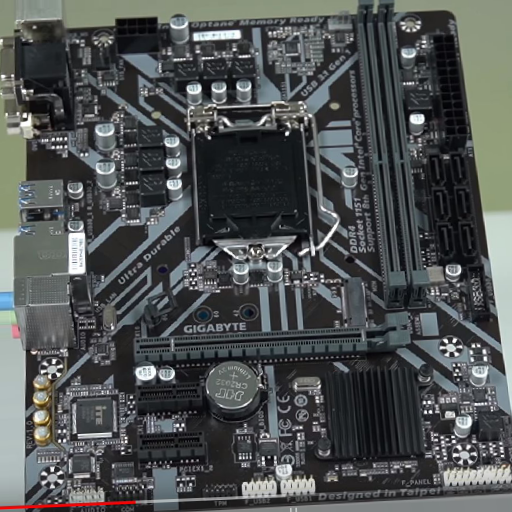CPU: (185, 101, 322, 263)
GPU: (134, 312, 409, 365)
MOTHERBOARD: (5, 1, 512, 498)
RAM: (351, 1, 430, 306)
SSD: (340, 278, 368, 328)
